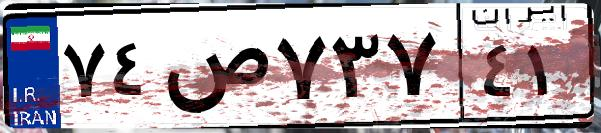1: (525, 38, 570, 115)
3: (330, 28, 385, 110)
4: (475, 38, 525, 113), (110, 28, 158, 98)
7: (270, 28, 330, 110), (385, 28, 445, 110), (57, 26, 110, 100)
ص: (158, 20, 270, 120)
